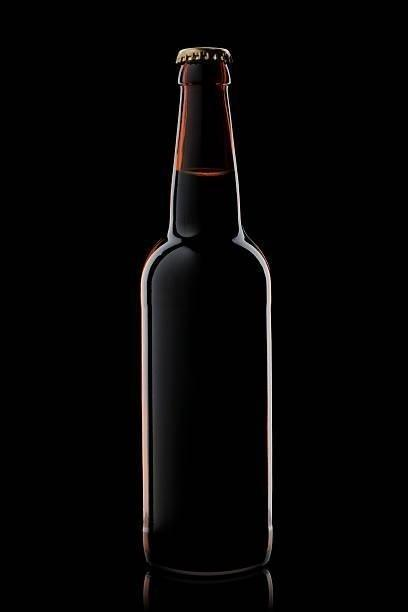bottle-glass: (135, 40, 277, 587)
